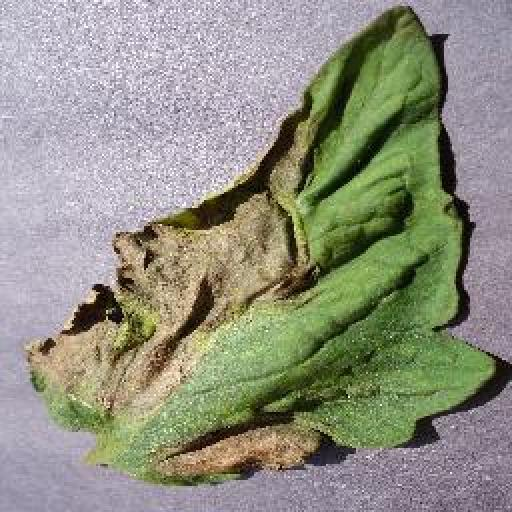Late Blight: (27, 2, 497, 486)
